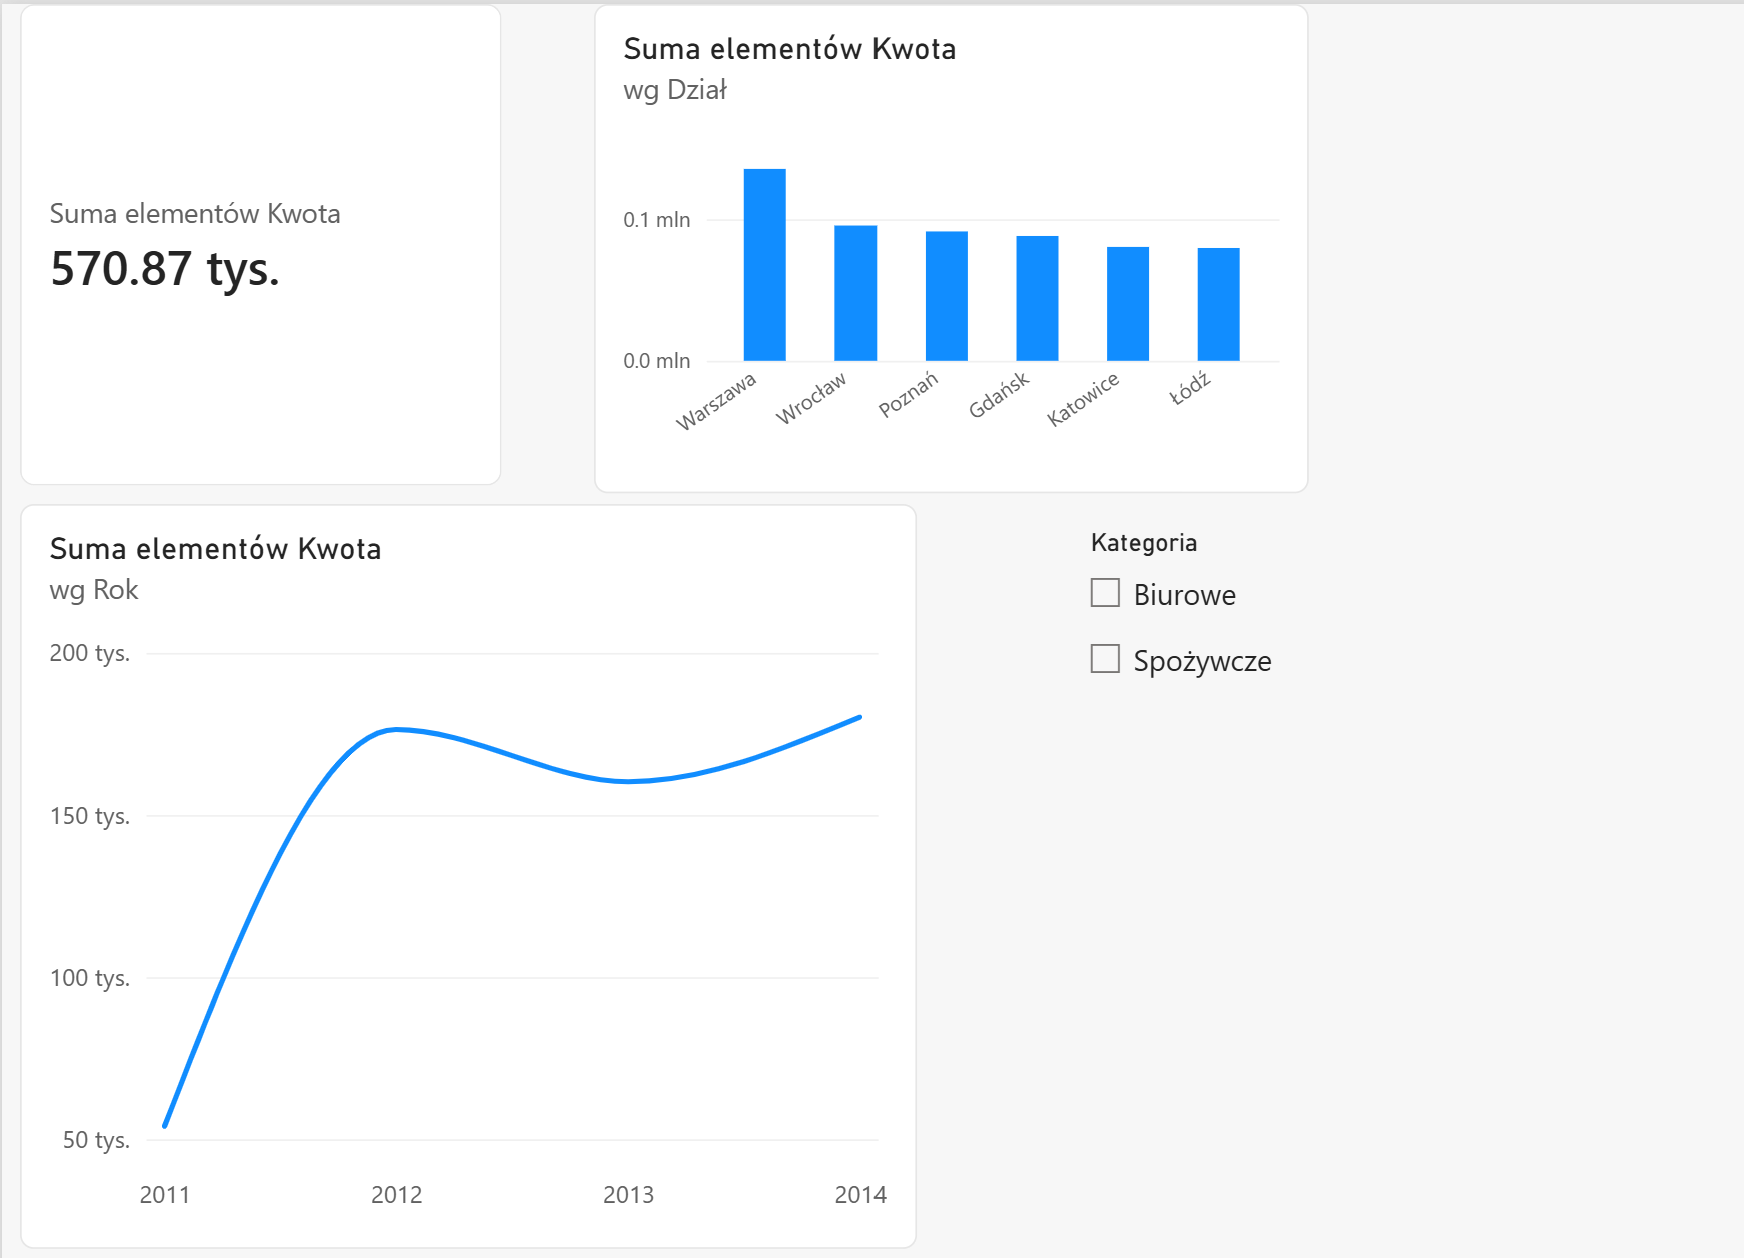

Layout of this report page (visuals, bound fields, positions):
{"tool":"powerbi","page":{"name":"Strona 1","canvas":[1920,1080],"ordinal":0},"visuals":[{"type":"cardVisual","fields":{"Data":["Sum(Sprzedaż.Kwota)"]},"box":[10,0,280,280],"z":0},{"type":"clusteredColumnChart","fields":{"Category":["Sprzedaż.Dział"],"Y":["Sum(Sprzedaż.Kwota)"]},"box":[343.7,0,414.8,284.4],"z":1},{"type":"lineChart","fields":{"Category":["Sprzedaż.Data.Variation.Hierarchia dat.Rok","Sprzedaż.Data.Variation.Hierarchia dat.Kwartał","Sprzedaż.Data.Variation.Hierarchia dat.Miesiąc","Sprzedaż.Data.Variation.Hierarchia dat.Dzień"],"Y":["Sum(Sprzedaż.Kwota)"]},"box":[10.3,290.5,521.2,432.6],"z":2},{"type":"slicer","fields":{"Values":["Sprzedaż.Kategoria"]},"box":[624.2,304.9,568.6,410],"z":3}]}

Visuals, with their boxes on the page's 1920x1080 design canvas (x1, y1, x2, y2). These are canvas units, not pixel positions in the 1744x1258 screenshot, which may show the page scaled, cropped or inside an application window:
cardVisual - Sum(Sprzedaż.Kwota): [10, 0, 290, 280]
clusteredColumnChart - Sprzedaż.Dział x Sum(Sprzedaż.Kwota): [344, 0, 758, 284]
lineChart - Sprzedaż.Data.Variation.Hierarchia dat.Rok x Sprzedaż.Data.Variation.Hierarchia dat.Kwartał: [10, 290, 532, 723]
slicer - Sprzedaż.Kategoria: [624, 305, 1193, 715]
